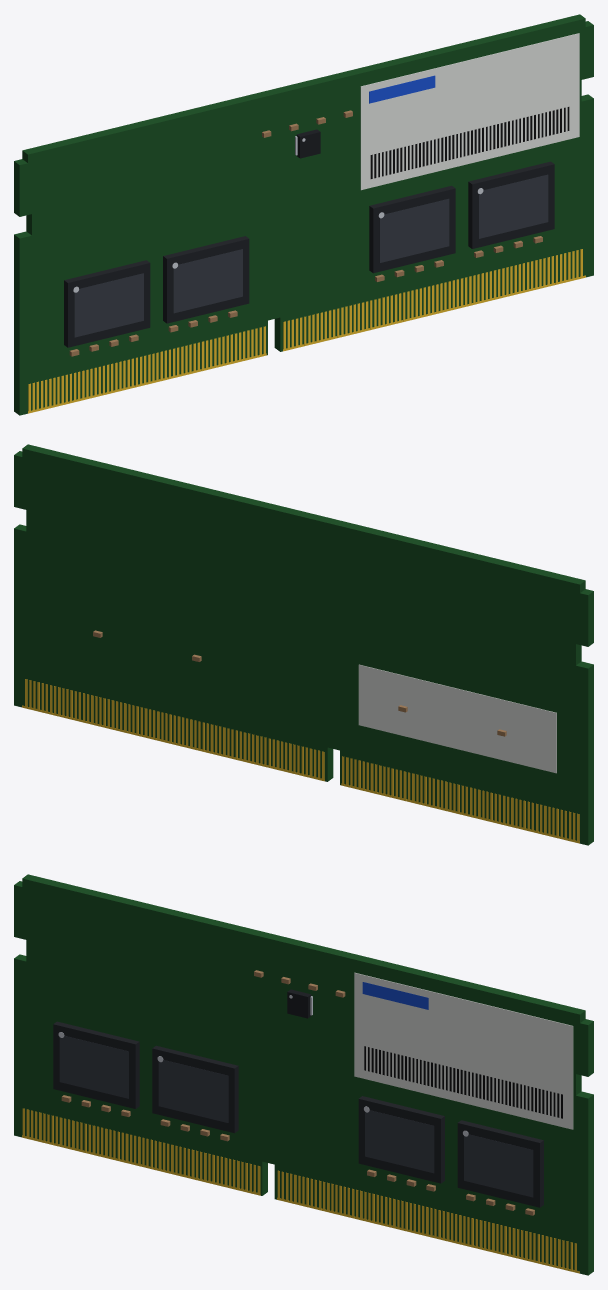
Rendered from DDR4_8GB_SODIMM_LAPTOP.obj.
The picture shows the model from 3 angles, top to bottom: view 1: azimuth 30°, elevation 25°; view 2: azimuth 150°, elevation 25°; view 3: azimuth 330°, elevation 25°; orthographic projection.
Size of the model in its own units: 69.6 by 30 by 2.62.
